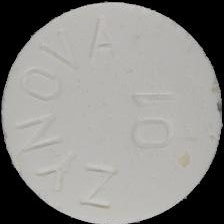60429-239: (0, 0, 224, 224)
